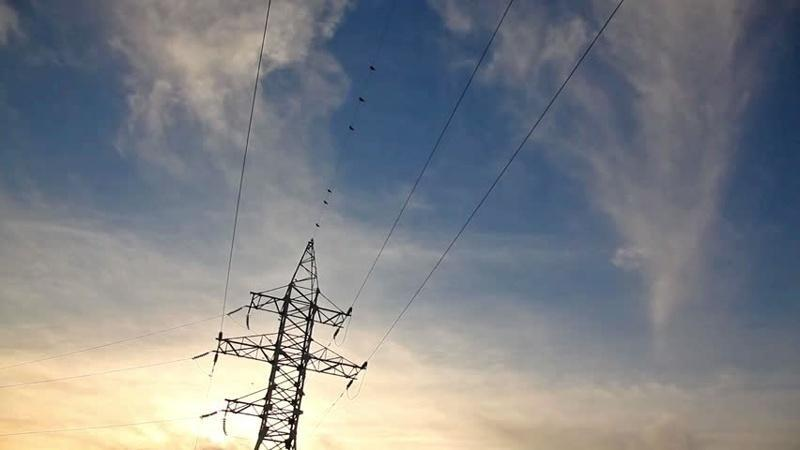power_tower: (193, 237, 368, 450)
